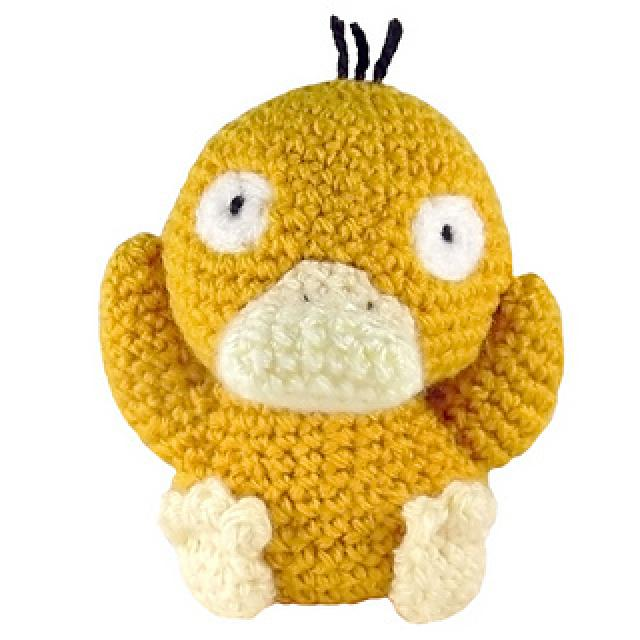Psyduck: (110, 64, 531, 630)
